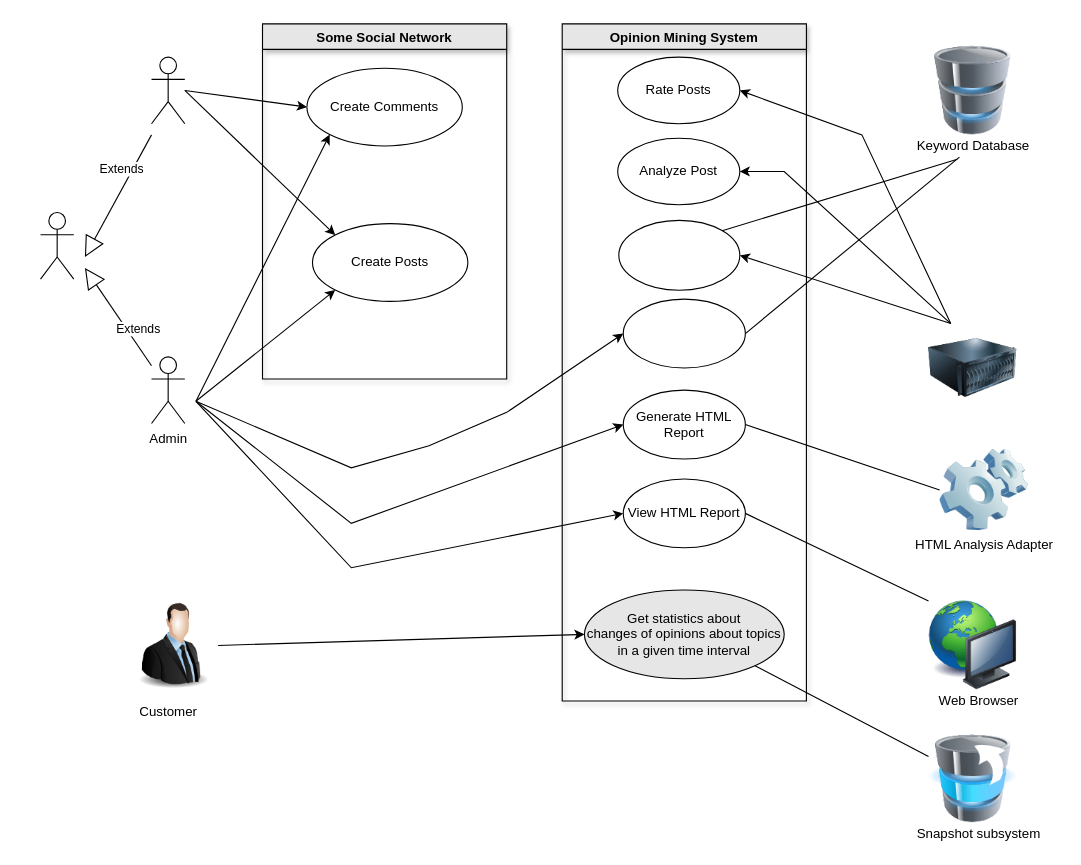
The diagram is 1081 pixels wide and 865 high, and some of its shapes have lost their labels. Each missing label, with the centre of its shape:
AbstractUser: the point at 56,245
Add Keyword: the point at 683,333
Analysis System: the point at 972,367
Get Keyword: the point at 679,254
User: the point at 167,90
